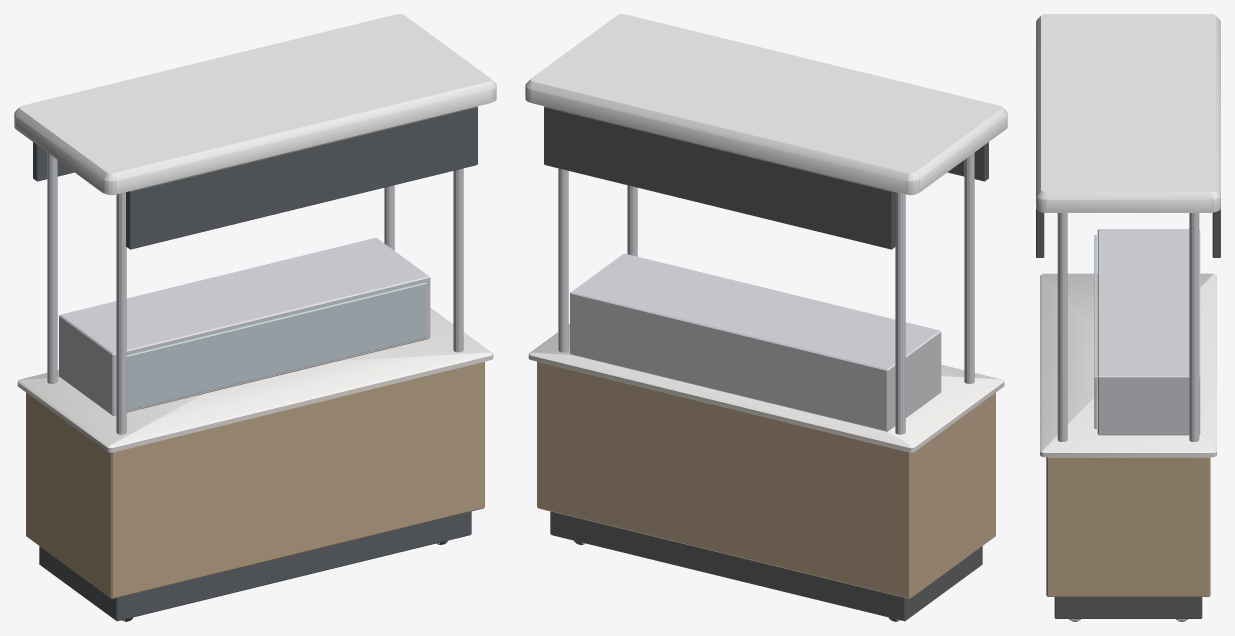
File: SM_Retail_25374_ConcourseKioskCart.fbx
The picture shows the model from 3 angles, left to right: view 1: azimuth 30°, elevation 25°; view 2: azimuth 150°, elevation 25°; view 3: azimuth 270°, elevation 25°; orthographic projection. The views are drawn at different scales.
Parts seen in each view (by area): view 1: kiosk-cart_1, kiosk-cart_2, kiosk-cart_0, kiosk-cart_3, kiosk-cart_4; view 2: kiosk-cart_1, kiosk-cart_2, kiosk-cart_3, kiosk-cart_0; view 3: kiosk-cart_2, kiosk-cart_3, kiosk-cart_1, kiosk-cart_0, kiosk-cart_4.
Part boxes in pixels (x1,y1,x2,y2): kiosk-cart_1: (26,361,484,598); kiosk-cart_2: (14,14,496,452); kiosk-cart_0: (33,106,477,621); kiosk-cart_3: (47,152,463,620); kiosk-cart_4: (126,282,426,410); kiosk-cart_1: (537,361,995,598); kiosk-cart_2: (525,14,1007,452); kiosk-cart_3: (558,152,974,620); kiosk-cart_0: (544,106,988,621); kiosk-cart_2: (1036,14,1220,457); kiosk-cart_3: (1057,213,1200,620); kiosk-cart_1: (1046,457,1210,596); kiosk-cart_0: (1036,208,1220,621); kiosk-cart_4: (1094,235,1096,428).
Size of the model in its own units: 210 by 89.99 by 239.
